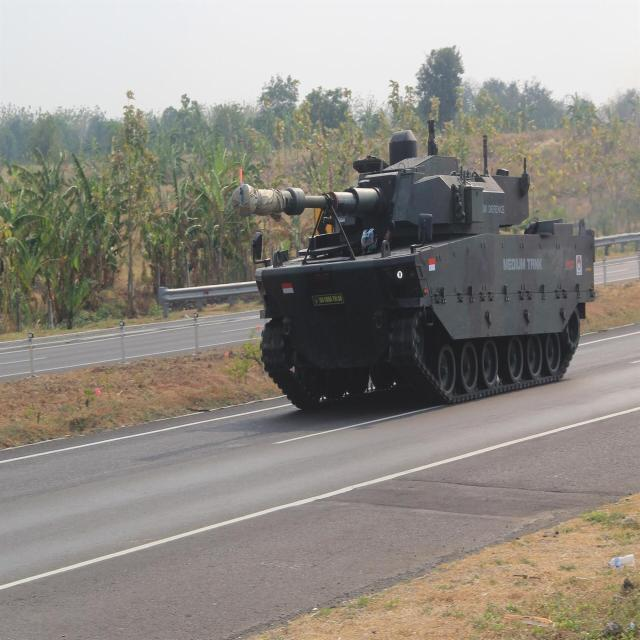Tanks: (229, 142, 573, 403)
